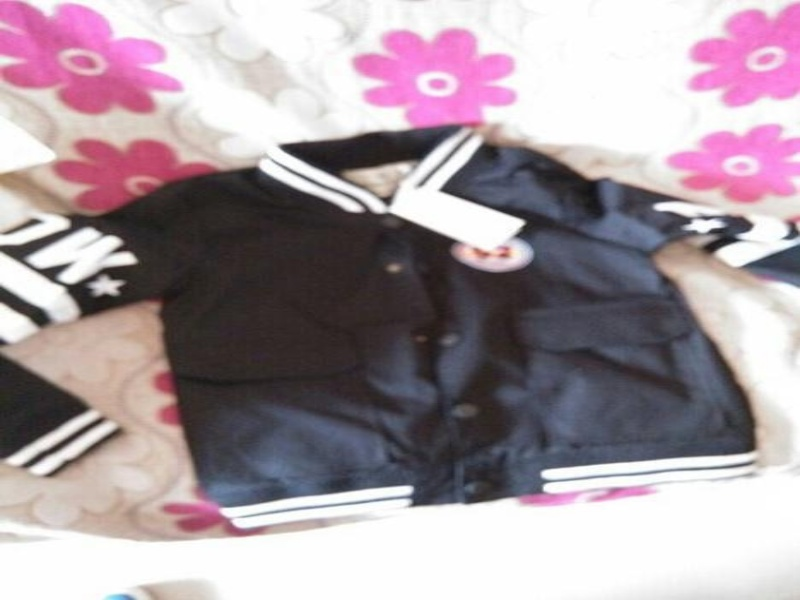long_sleeved_shirt: (0, 117, 795, 544)
